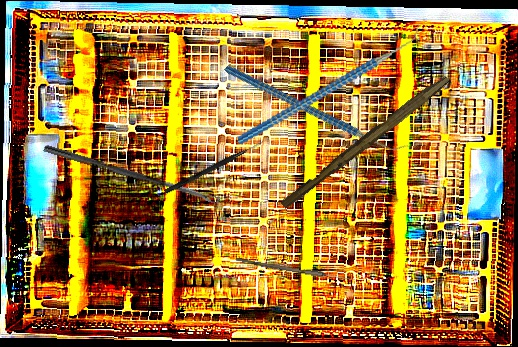Chopper: (224, 15, 409, 201), (222, 22, 436, 145)
Hook Surgical: (164, 138, 264, 196)
Scalpel Handle: (279, 70, 451, 213)
Surgical Spoon: (42, 144, 221, 206), (235, 257, 356, 283)
